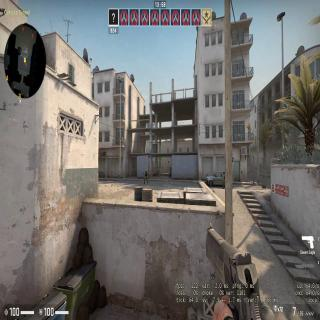CT-Body: (143, 170, 148, 182)
CT-Head: (144, 170, 146, 172)
